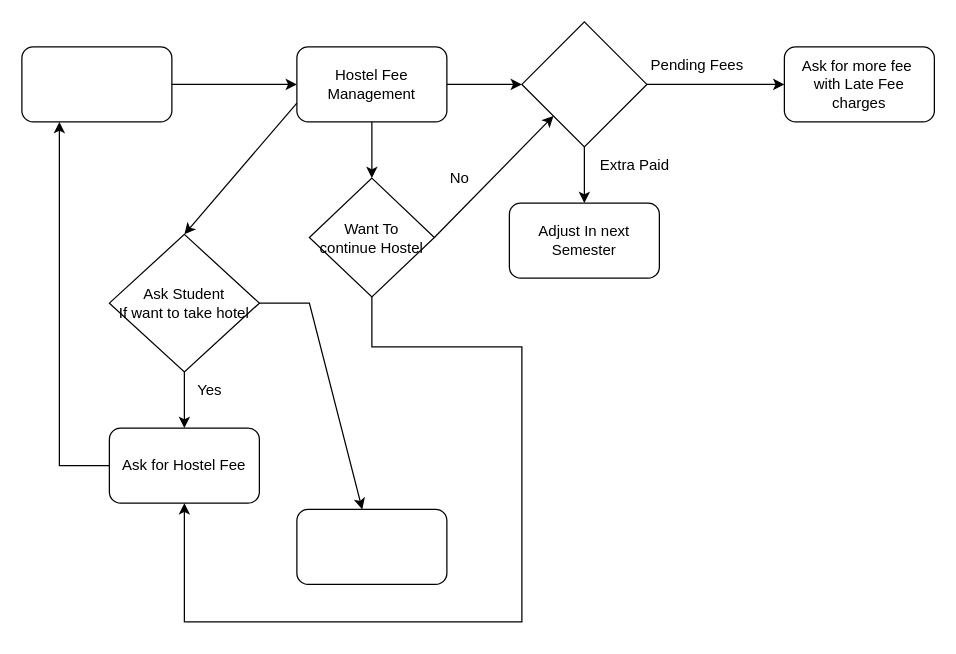
Image size: 956x654. Some labels were removed from this diagram. The shapes that lost their labels are listed below. From the top down, each one's box as (x1, y1, x2, y2) in pixels, then its label:
(21, 46, 172, 122): Student
(521, 21, 647, 147): Check current Balance
(296, 508, 447, 584): Exit Console
